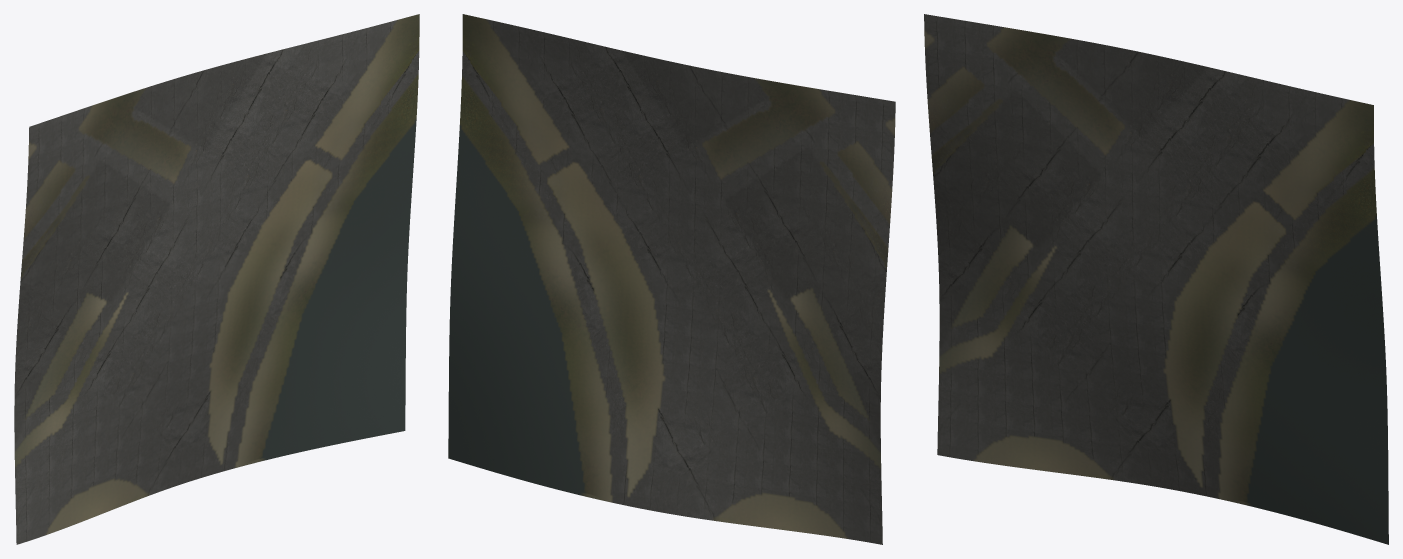
Rendered from ground_core_05_00.obj.
3 views of the same model, side by side, from view 1: azimuth 30°, elevation 25°; view 2: azimuth 150°, elevation 25°; view 3: azimuth 330°, elevation 25° (orthographic). The views are drawn at different scales.
Visible parts, largest first — view 1: ground_core_05_00; view 2: ground_core_05_00; view 3: ground_core_05_00.
Boxes of the visible parts, <box> form: ground_core_05_00: <box>14,14,419,544</box>; ground_core_05_00: <box>448,14,895,544</box>; ground_core_05_00: <box>924,14,1388,544</box>.
Bounding box in the file's own units: 50 × 50 × 7.86.
Materials: 1 (1 with a texture image).
